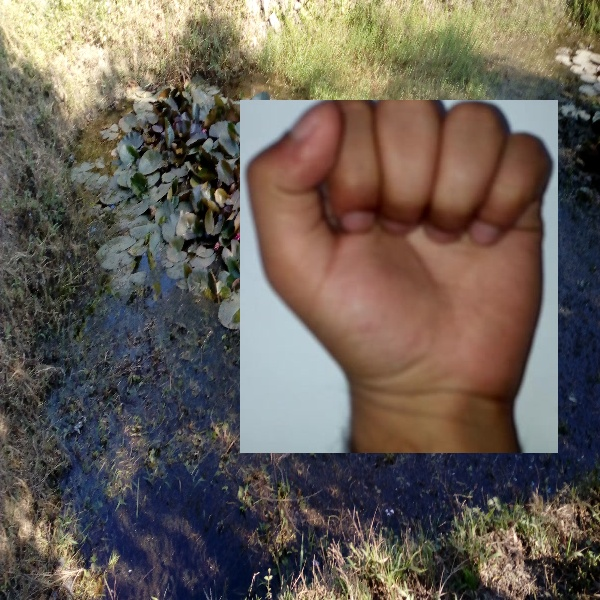A: (240, 100, 558, 453)
